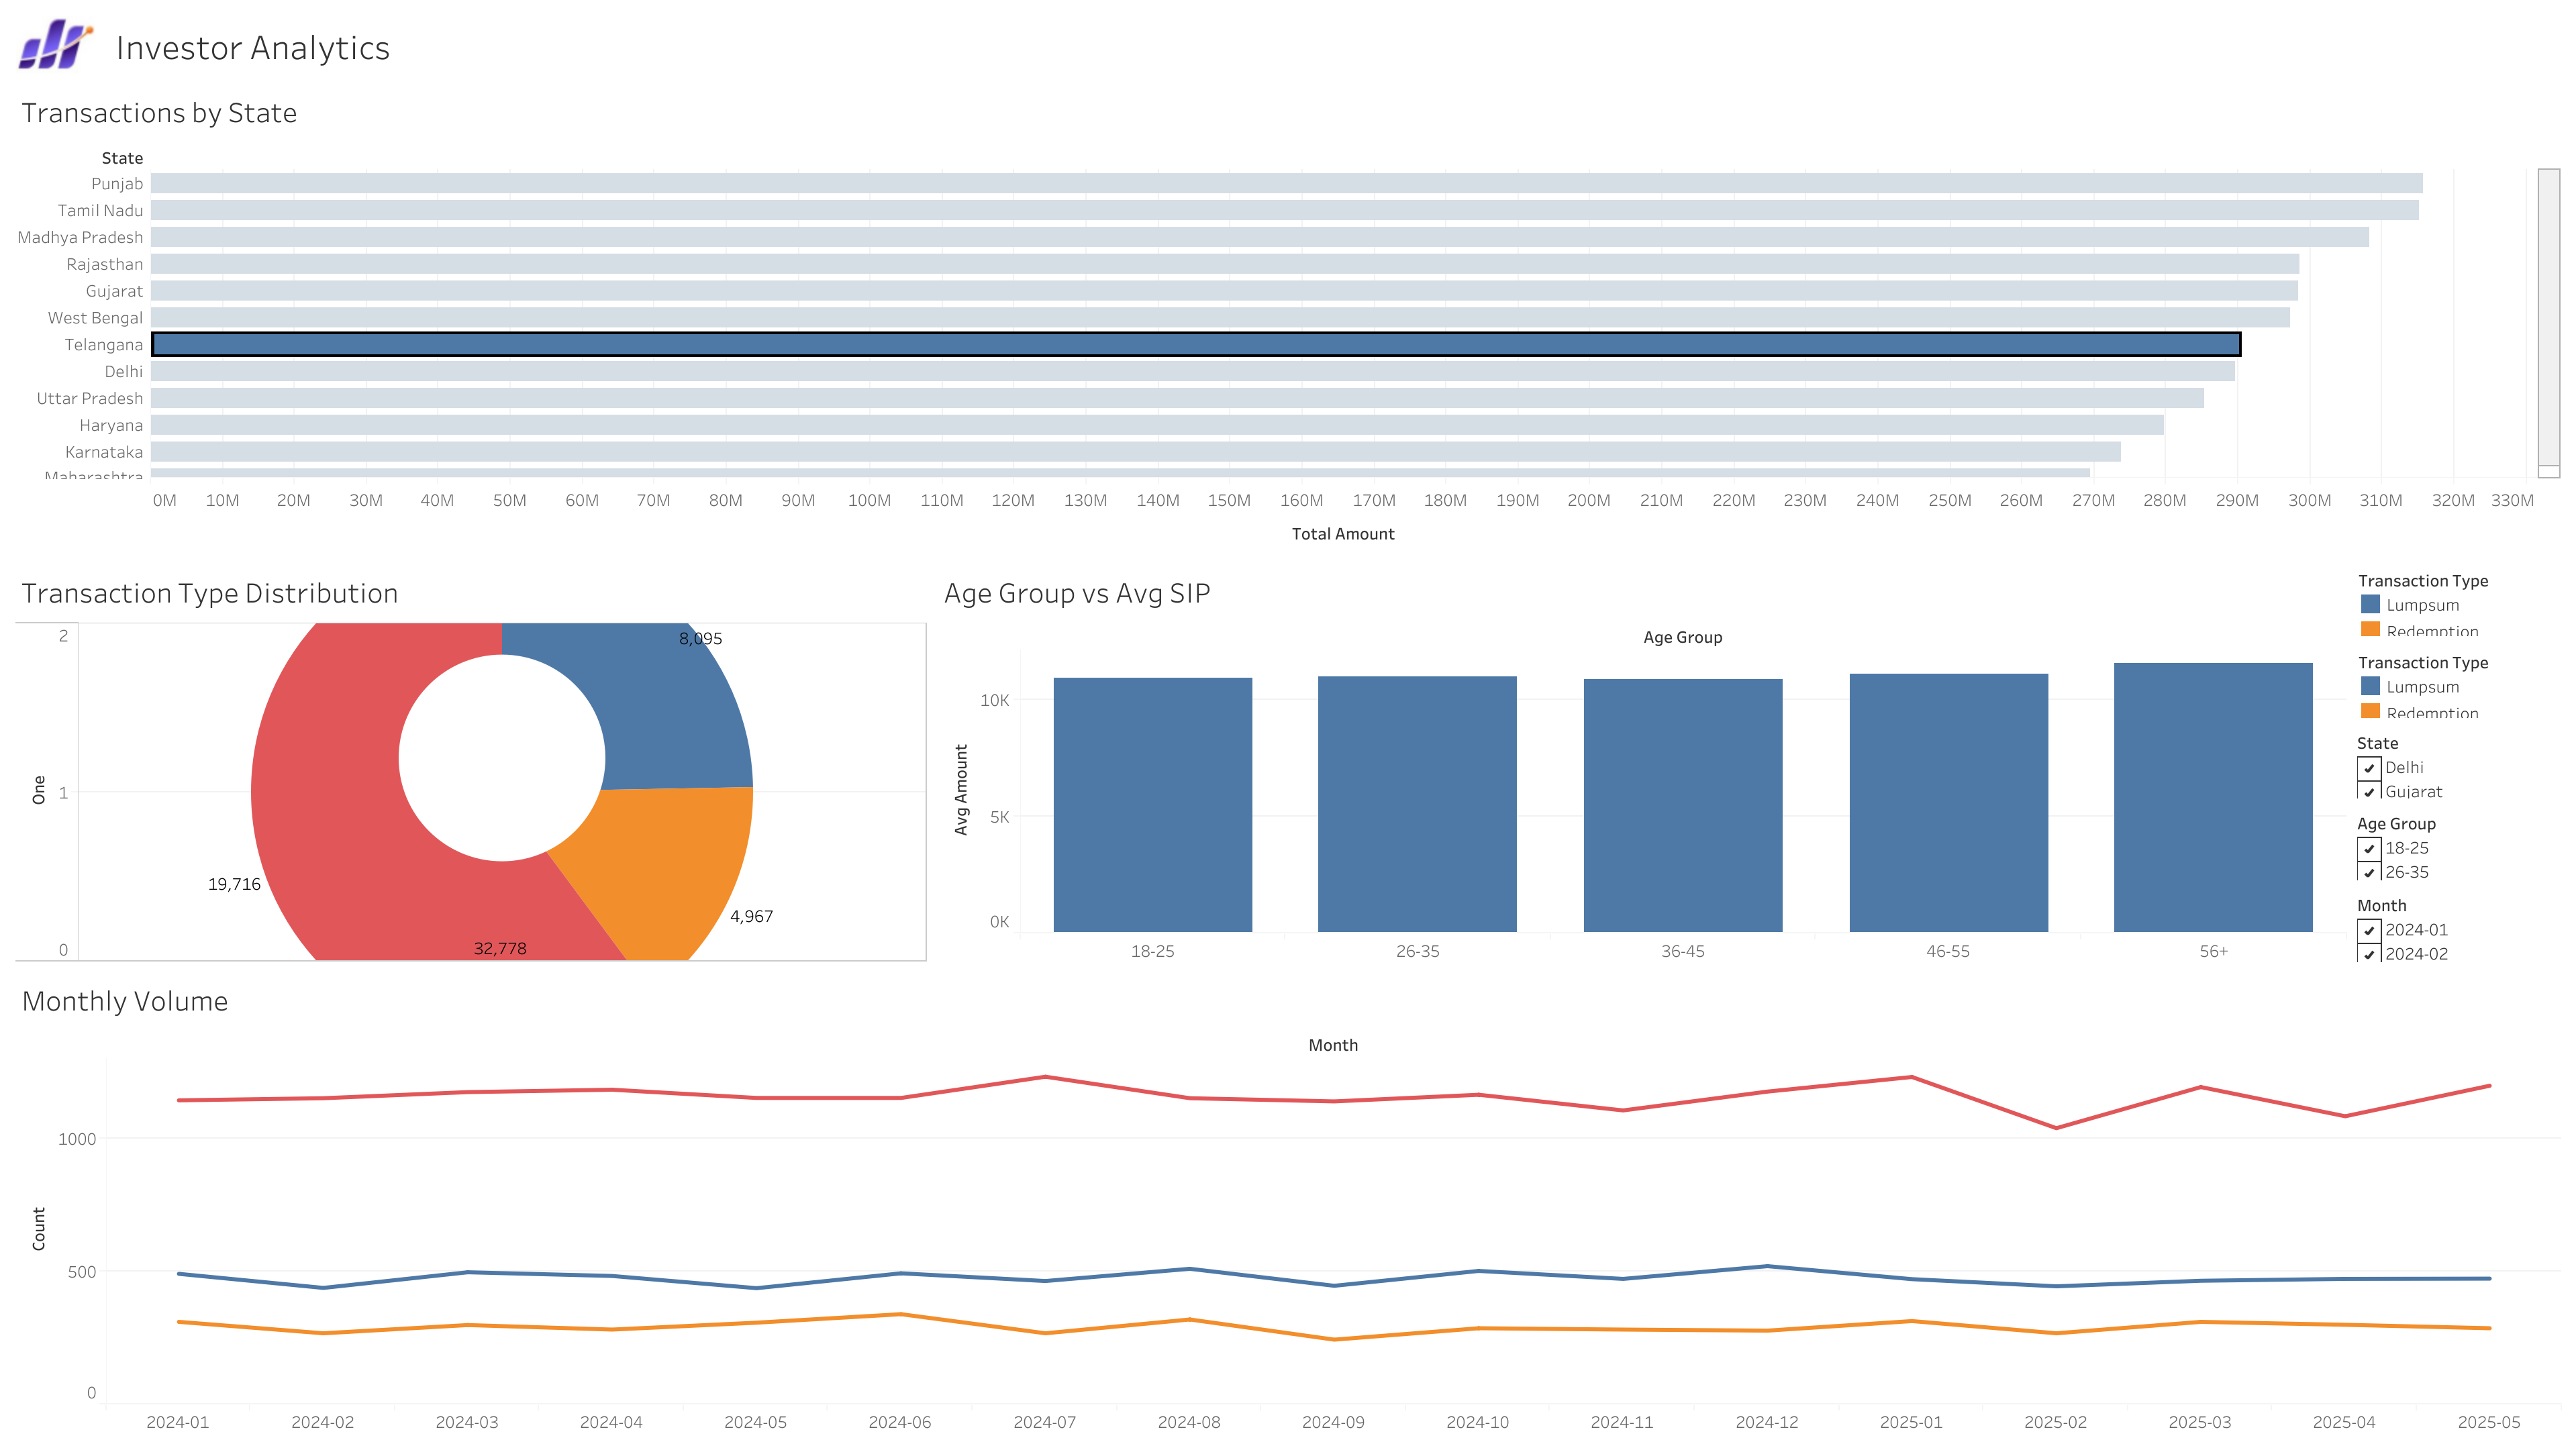

The dashboard page shown, as its layout file describes it:
{"tool":"tableau","page":{"name":"Dashboard 3","canvas":[1920,1080],"ordinal":2},"visuals":[{"type":"image","param":"Image/BS.jpeg","box":[8,8,71,51]},{"type":"title","box":[79,8,1833,51]},{"type":"worksheet","title":"Transactions by State","mark":"Automatic","rows":["state"],"cols":["total_amount"],"box":[8,59,1904,358]},{"type":"worksheet","title":"Transaction Type Distribution","mark":"Pie","rows":["Calculation_1277025034780672","Calculation_1277025034780672"],"box":[8,417,687,304]},{"type":"worksheet","title":"Age Group vs Avg SIP","mark":"Automatic","rows":["avg_amount"],"cols":["age_group"],"box":[695,417,1057,304]},{"type":"legend","title":"Transaction Type Distribution","param":"[federated.0tr0huo00u68fu1cpbnyg0l9maeq].[none:transaction_type:nk]","box":[1752,417,160,60.8]},{"type":"legend","title":"Monthly Volume","param":"[federated.0hn928r1ri29im13zc7wf0ogup8v].[none:transaction_type:nk]","box":[1752,477.8,160,60.8]},{"type":"filter","title":"Transactions by State","param":"[federated.0ozc6mo1qkthva1773t4e0by3h8t].[none:state:nk]","box":[1752,538.6,160,60.8]},{"type":"filter","title":"Age Group vs Avg SIP","param":"[federated.1kjuk3x0rmv3c716xed2z0miqxkt].[none:age_group:nk]","box":[1752,599.4,160,60.8]},{"type":"filter","title":"Monthly Volume","param":"[federated.0hn928r1ri29im13zc7wf0ogup8v].[none:month:nk]","box":[1752,660.2,160,60.8]},{"type":"worksheet","title":"Monthly Volume","mark":"Line","rows":["count"],"cols":["month"],"box":[8,721,1904,351]}]}

Visuals, with their boxes in screenshot pixels (x1, y1, x2, y2), scaled from the page's 1920x1080 canvas onto the 2576x1448 screenshot:
image: detection(11, 11, 106, 79)
title: detection(106, 11, 2565, 79)
"Transactions by State" worksheet: detection(11, 79, 2565, 559)
"Transaction Type Distribution" worksheet (Pie marks): detection(11, 559, 932, 967)
"Age Group vs Avg SIP" worksheet: detection(932, 559, 2350, 967)
"Transaction Type Distribution" legend: detection(2350, 559, 2565, 641)
"Monthly Volume" legend: detection(2350, 641, 2565, 722)
"Transactions by State" filter: detection(2350, 722, 2565, 804)
"Age Group vs Avg SIP" filter: detection(2350, 804, 2565, 885)
"Monthly Volume" filter: detection(2350, 885, 2565, 967)
"Monthly Volume" worksheet (Line marks): detection(11, 967, 2565, 1437)
